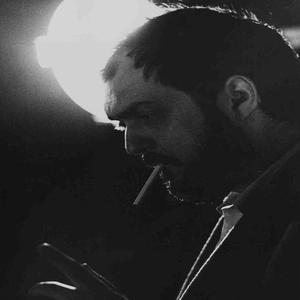cigarette: (132, 163, 164, 208)
